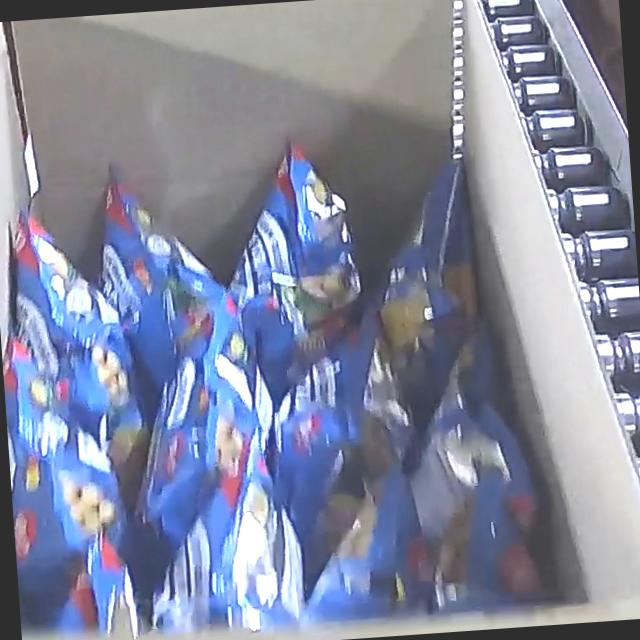paprika: (0, 118, 560, 640)
